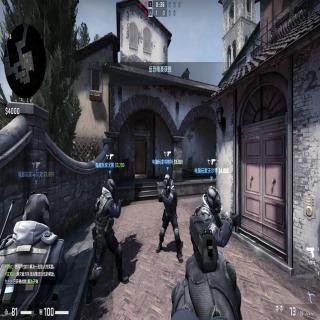CT-Body: (85, 177, 129, 306), (155, 174, 183, 262)
CT-Head: (22, 192, 51, 226), (206, 183, 222, 216), (106, 178, 116, 196), (162, 174, 170, 194)
